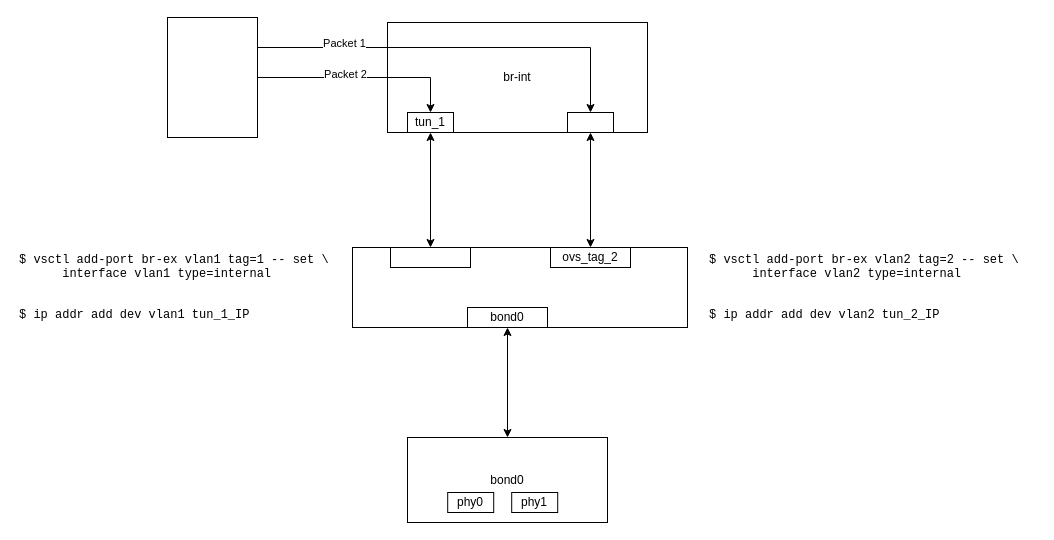
Some shapes in this 1054 by 540 pixel diagram are drawn without their labels. Here are the shapes that lost their labels. From the top down, the box of each, then its label:
(166, 16, 258, 138): VM
(566, 112, 614, 132): tun_2
(390, 246, 470, 268): ovs_tag_1
(352, 246, 688, 328): br-ex
